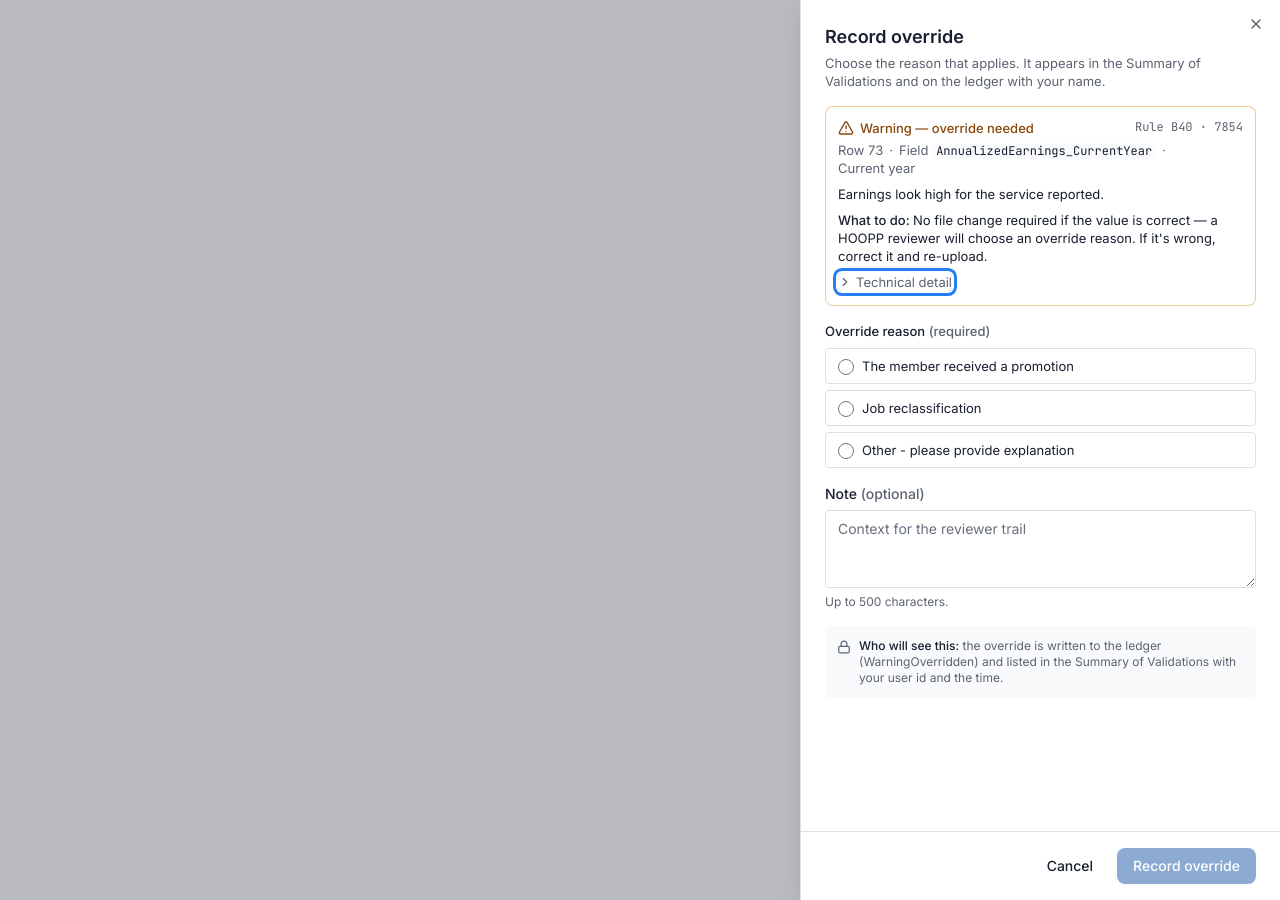
Test case: OverrideDrawer (ux 4.9 / 6.4 / 7.5) › Other requires a note: submit stays disabled, the note is marked required, help copy explains why
The image size is (1280, 900).
Expected: the list with test id "override-reasons" is shown, [825,348,1256,468]
Click the radio button labelled "Other - please provide explanation".
click(846, 451)  # box [838,443,854,459]
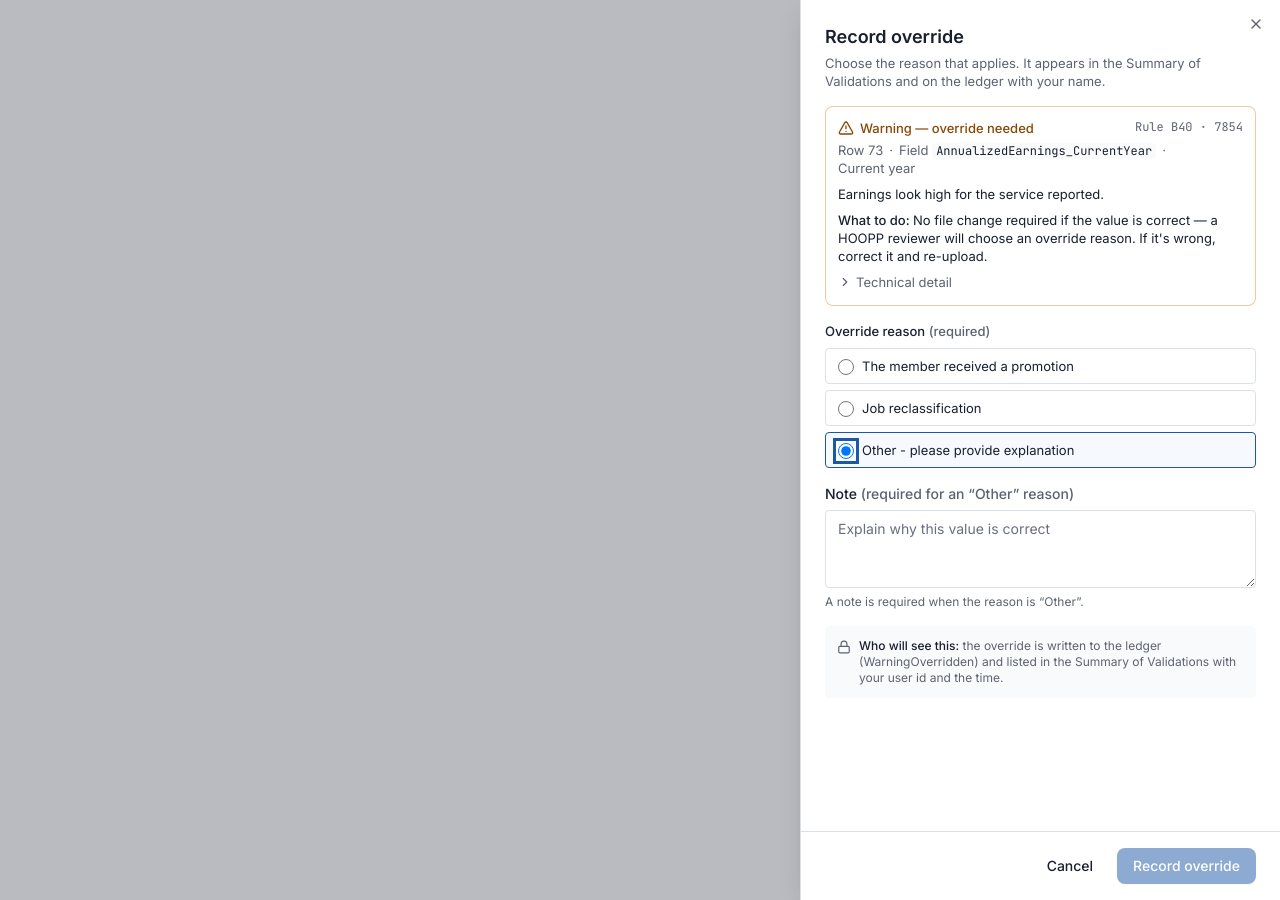
Expected: the button with test id "override-submit" is disabled, [1117,848,1256,884]
Now the text "A note is required when the reason is “Other”." is shown, box [825,594,1084,609]
Type "Verified against the payroll register" into the text box with test id "override-note".
click(1040, 549); type("Verified against the payroll register")  # box [825,510,1256,588]
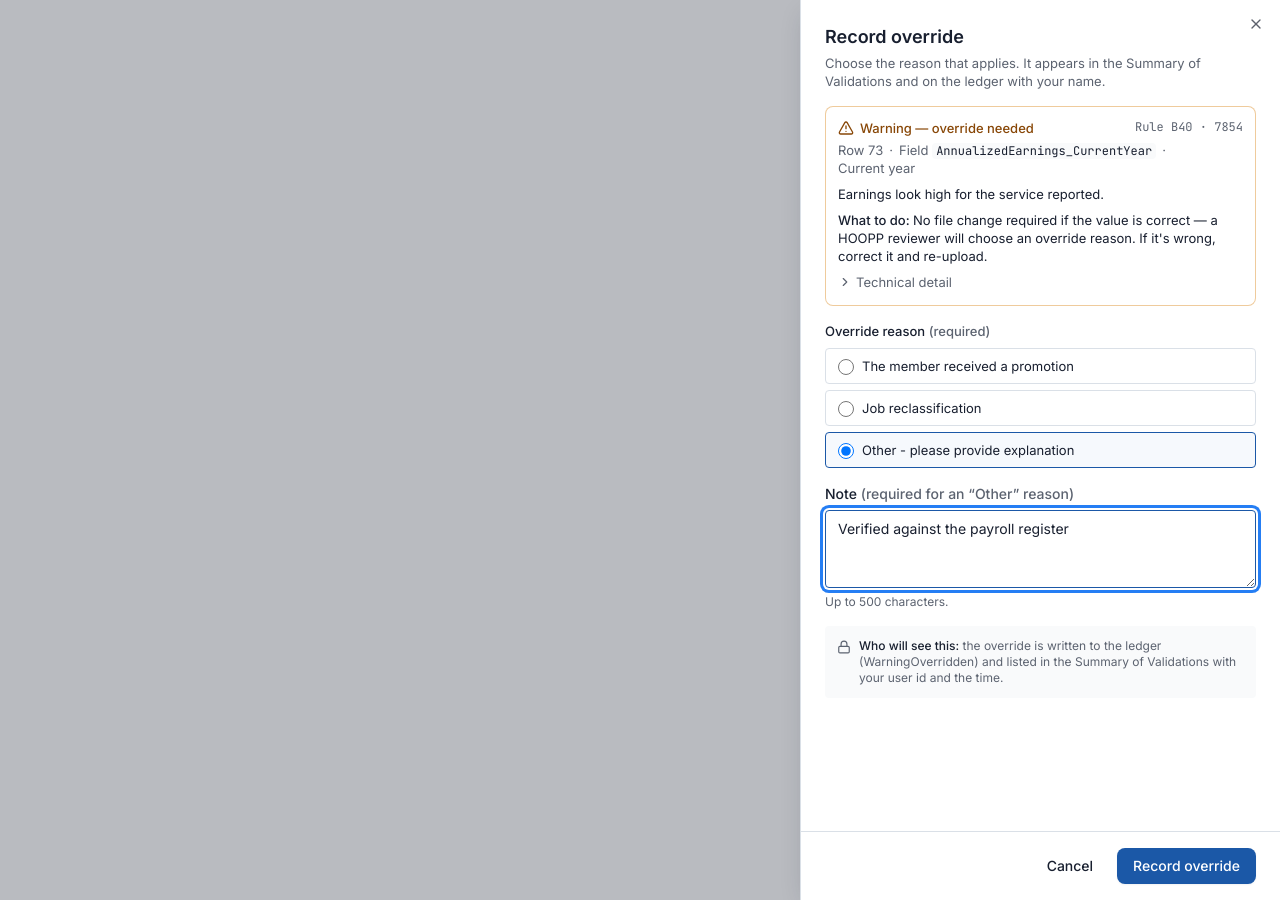
Now the button with test id "override-submit" is enabled, box [1117,848,1256,884]
